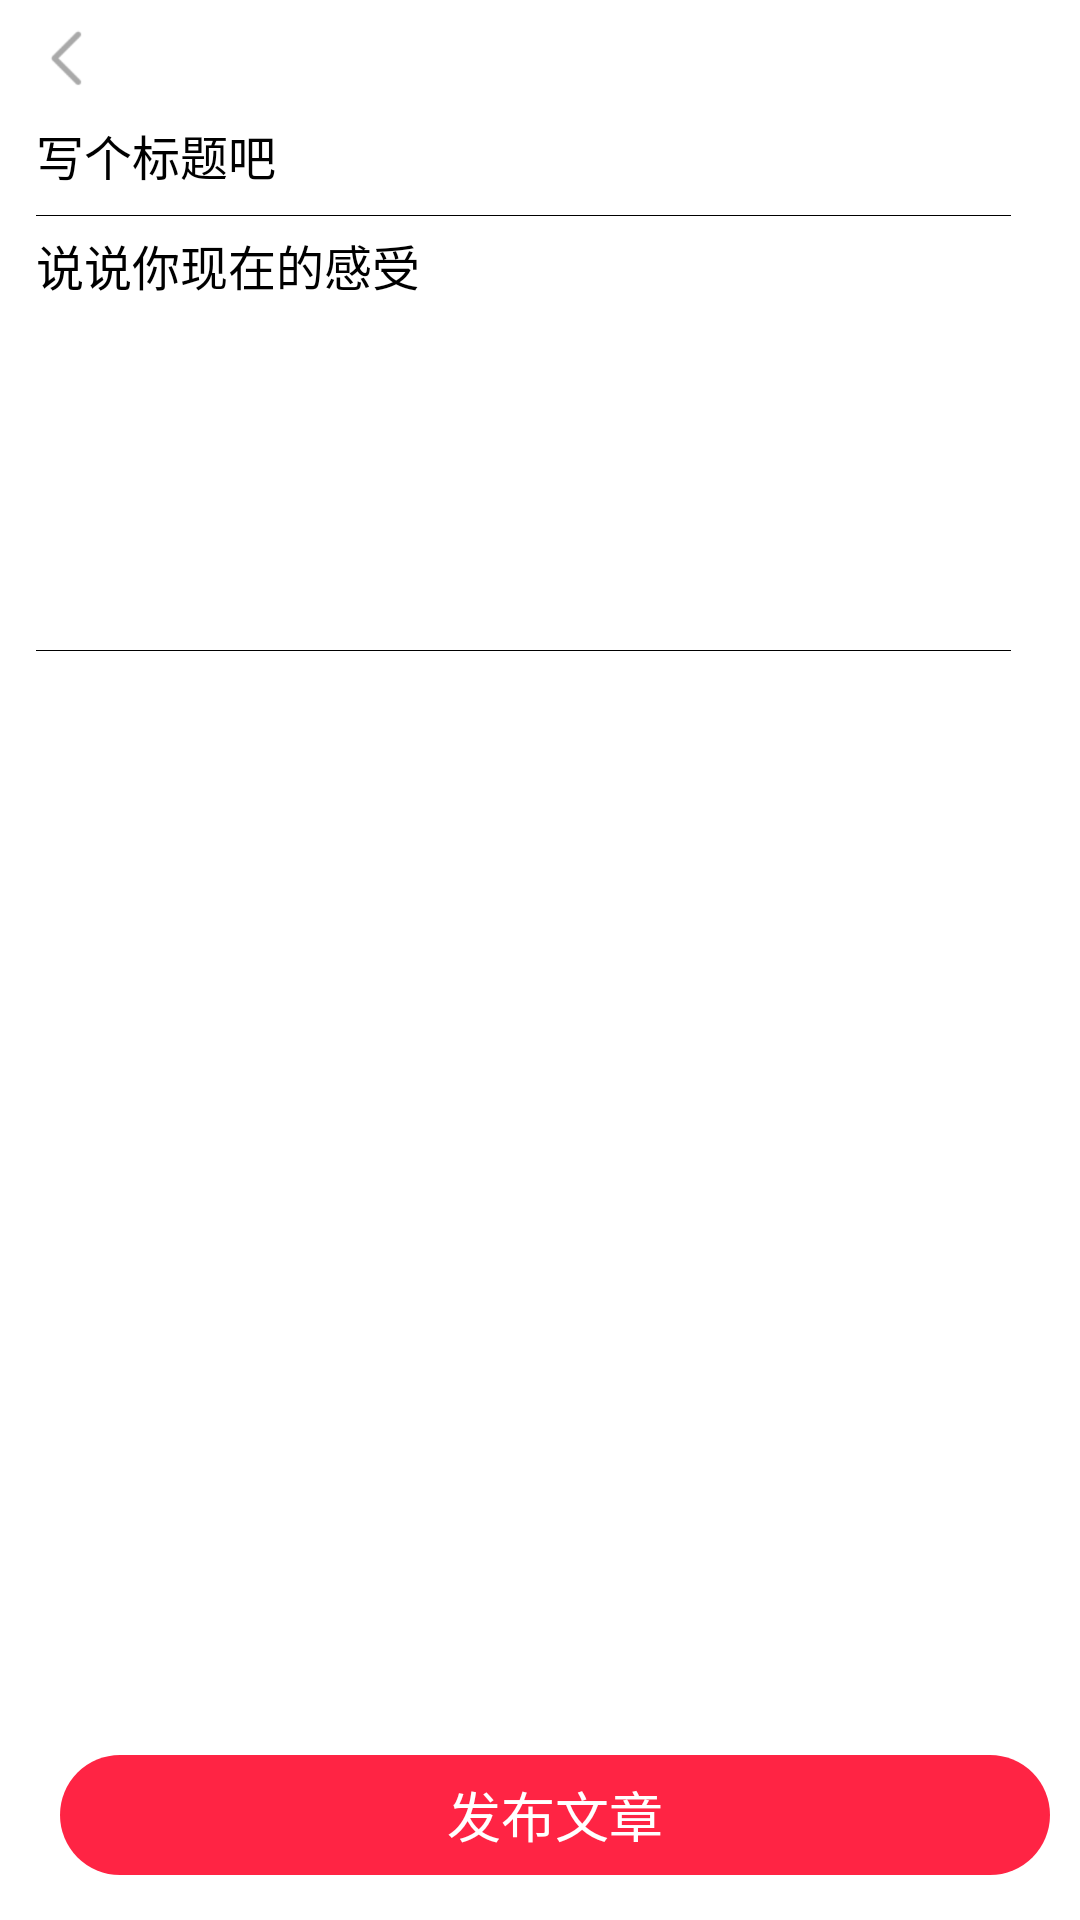

Icon click points for this 1080px×1920px phone screenshot, format [x,y]:
fanhui: [66,58]
